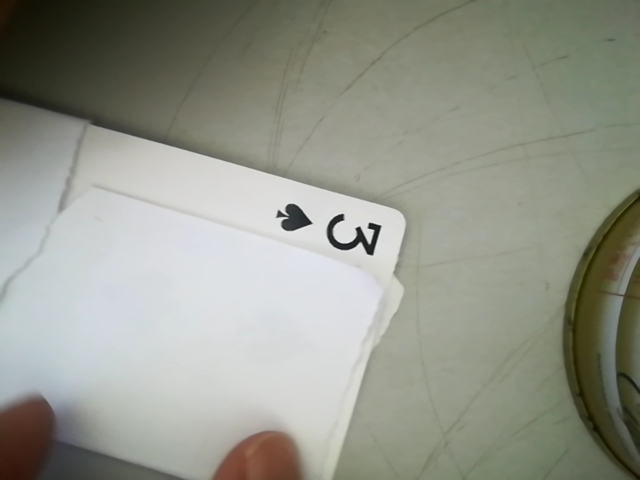ht 3: (267, 197, 405, 259)
